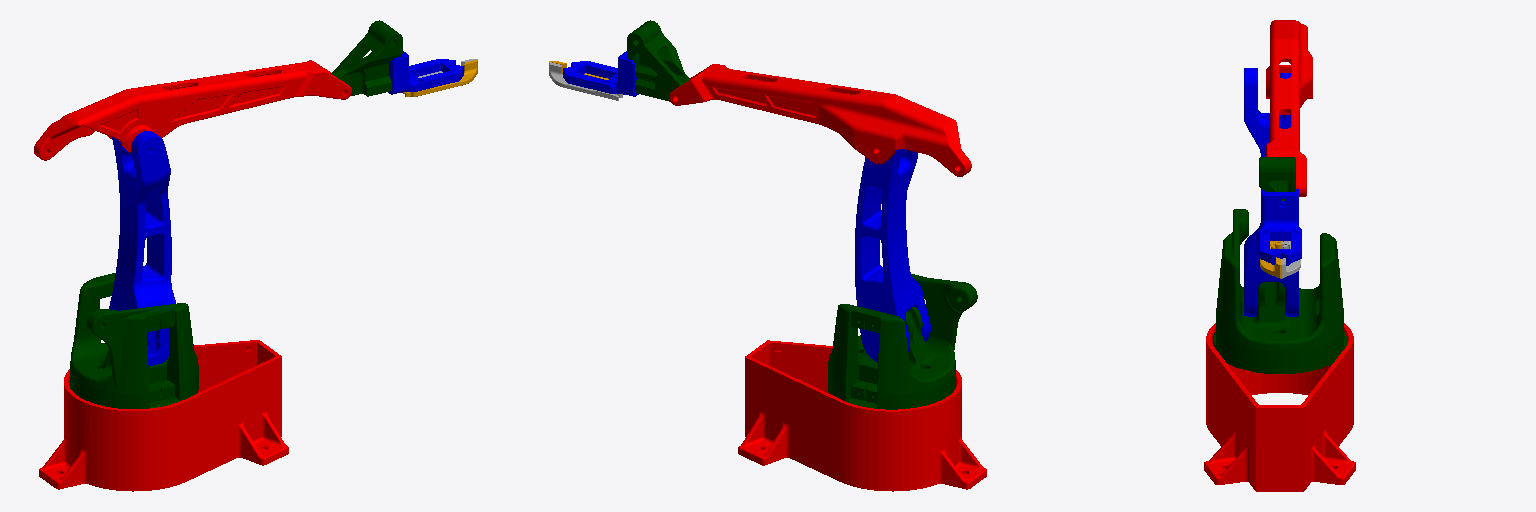
The robot description file, URDF, robot "eezybotarm":
<?xml version="1.0"?>

<robot name="eezybotarm">

<material name="red">
    <color rgba="1.0 0.0 0.0 1.0"/>
  </material>
  <material name="dark_green">
    <color rgba="0.0 0.275 0.0 1.0"/>
  </material>
  <material name="blue">
    <color rgba="0.0 0.0 1.0 1.0"/>
  </material>

<!-- BASE LINK -->
  <link
    name="base_link">
    <visual>
      <origin xyz="0 0 0" rpy="0 0 3.14159265"/>
      <geometry>
        <mesh filename="package://eezybotarm_description/meshes/012_base.stl" />
      </geometry>
      <material name="red"/>
    </visual>
    <collision>
      <origin xyz="0 0 0" rpy="0 0 3.14159265"/>
      <geometry>
        <mesh filename="package://eezybotarm_description/meshes/012_base.stl" />
      </geometry>
    </collision>
  </link>

<!-- HIP -->
  <joint name="waist_joint" type="revolute">
    <origin xyz="0 0 0.05" rpy="0 0 0" />
    <parent link="base_link" />
    <child link="turret_link" />
    <axis xyz="0 0 1" />
    <limit effort="1.5" velocity="1.57"
      lower="-1.2" upper="1.2"/>
  </joint>

<!--HIP-->
  <link
    name="turret_link">
    <visual>
      <origin xyz="0 0 0" rpy="0 0 -1.570796325" />
      <geometry>
        <mesh filename="package://eezybotarm_description/meshes/001_base.stl" />
      </geometry>
      <material name="dark_green"/>
    </visual>
    <collision>
      <origin xyz="0 0 0" rpy="0 0 -1.570796325" />
      <geometry>
        <mesh filename="package://eezybotarm_description/meshes/001_base.stl" />
      </geometry>
    </collision>
  </link>

<!-- SHOULDER -->
  <joint name="shoulder_joint" type="revolute">
    <origin xyz="0 -0.005 0.037" rpy="0 0 0" />
    <parent link="turret_link" />
    <child link="shoulder_link" />
    <axis xyz="0 1 0" />
    <limit effort="1.5" velocity="1.57"
      lower="-0.45" upper="0.80"/>
  </joint>

<!-- SHOULDER -->
  <link name="shoulder_link">
    <visual>
      <origin xyz="0 0 0" rpy="0 0 3.14159" />
      <geometry>
        <mesh filename="package://eezybotarm_description/meshes/002_mainarm.stl" />
      </geometry>
      <material name="blue"/>
    </visual>
    <collision>
      <origin xyz="0 0 0" rpy="0 0 3.14159" />
      <geometry>
        <mesh filename="package://eezybotarm_description/meshes/002_mainarm.stl" />
      </geometry>
    </collision>
  </link>

  <!-- VIRTUAL MIMIC JOINT 2-->
  <joint name="shoulder_mimic_joint" type="revolute">
    <origin xyz="0 -0.0011 0.135" rpy="0 0 0" />
    <parent link="shoulder_link"/>
    <child link="virtual_parallelogram_link"/>
    <axis xyz="0 1 0"/>
    <limit effort="30" velocity="1.0" lower="-3.14159" upper="3.14159" />
    <mimic joint="shoulder_joint" multiplier="-1" offset="0" />
  </joint>

  <link name="virtual_parallelogram_link" />

<!-- ELBOW -->
  <joint name="elbow_joint" type="revolute">
    <origin xyz="0 0.013 0" rpy="0 0 0" />
    <parent link="virtual_parallelogram_link" />
    <child link="forearm_link" />
    <axis xyz="0 1 0" />
    <limit effort="1.5" velocity="1.57" lower="-0.25" upper="1.0"/>
  </joint>

<!-- ELBOW -->
  <link name="forearm_link">
    <visual>
      <geometry>
        <mesh filename="package://eezybotarm_description/meshes/006_horarm.stl" />
      </geometry>
      <material name="red"/>
    </visual>
    <collision>
      <geometry>
        <mesh filename="package://eezybotarm_description/meshes/006_horarm.stl" />
      </geometry>
    </collision>
  </link>

  <!-- CLAW SUPPORT -->
  <joint name="wrist_joint" type="revolute">
    <origin xyz="0.1468 -0.005 0" rpy="0 0 0" />
    <parent link="forearm_link" />
    <child link="wrist_link" />
    <axis xyz="0 1 0" />
    <limit effort="1.5" velocity="1.57" lower="-3.14159" upper="3.14159"/>
    <mimic joint="elbow_joint" multiplier="-1" offset="0" />
  </joint>

  <!-- LAW SUPPORT -->
  <link name="wrist_link">
    <visual>
      <origin xyz="0.0393 0.0075 -0.0065" rpy="0 0 1.570796325" />
      <geometry>
        <mesh filename="package://eezybotarm_description/meshes/009_trialinkfront.stl" />
      </geometry>
      <material name="dark_green"/>
    </visual>
    <collision>
      <origin xyz="0.0393 0.0075 -0.0065" rpy="0 0 1.570796325" />
      <geometry>
        <mesh filename="package://eezybotarm_description/meshes/009_trialinkfront.stl" />
      </geometry>
    </collision>
  </link>

  <!-- CLAW BASE -->
  <joint name="claw_base_joint" type="fixed">
    <origin xyz="0.045 -0.0015 -0.009" rpy="-0 0 0" />
    <parent link="wrist_link" />
    <child link="claw_base" />
  </joint>

  <!-- CLAW BASE -->
  <link name="claw_base">
    <visual>
      <geometry>
        <mesh filename="package://eezybotarm_description/meshes/014_clawbase.stl" />
      </geometry>
      <material name="blue" />
    </visual>
    <collision>
      <geometry>
        <mesh filename="package://eezybotarm_description/meshes/014_clawbase.stl" />
      </geometry>
    </collision>
  </link>

  <!-- FINGERS -->
  <joint name="finger_left_joint" type="revolute">
    <origin xyz="0.0085 0.009 -0.004" rpy="0 0 0" />
    <parent link="claw_base"/>
    <child link="claw_l"/>
    <axis xyz="0 0 1" />
    <limit effort="1.5" lower="0" upper="0.65" velocity="1.3" />
  </joint>

  <joint name="finger_right_joint" type="revolute">
    <origin xyz="0.0085 -0.009 -0.004" rpy="0 0 0" />
    <parent link="claw_base"/>
    <child link="claw_r"/>
    <axis xyz="0 0 -1" />
    <limit effort="1.5" lower="0" upper="0.65" velocity="1.3" />
    <mimic joint="finger_left_joint" multiplier="1.0" offset="0" />
  </joint>

  <link name="claw_l">
    <visual>
      <origin xyz="0 0 0" rpy="-1.570796325 0 0" />
      <geometry>
        <mesh filename="package://eezybotarm_description/meshes/017_clawfingersx.stl" />
      </geometry>
    </visual>
    <collision>
      <origin xyz="0 0 0" rpy="-1.570796325 0 0" />
      <geometry>
        <mesh filename="package://eezybotarm_description/meshes/017_clawfingersx.stl" />
      </geometry>
    </collision>
  </link>

  <link name="claw_r">
    <visual>
      <origin xyz="0 0 0.0033" rpy="1.570796325 0 0" />
      <geometry>
        <mesh filename="package://eezybotarm_description/meshes/015_clawfingerdx.stl" />
      </geometry>
    </visual>
    <collision>
      <origin xyz="0 0 0.0033" rpy="1.570796325 0 0" />
      <geometry>
        <mesh filename="package://eezybotarm_description/meshes/015_clawfingerdx.stl" />
      </geometry>
    </collision>
  </link>

  <!-- End-Effector frame for MoveIt -->
  <joint name="ee_joint" type="fixed">
    <origin xyz="0.075 0 0" rpy="0 0 0" />
    <parent link="claw_base" />
    <child link="ee_link" />
  </joint>

  <link name="ee_link"/>

</robot>

--- What the picture shows (computed from the rendered views, not written in the file) ---
Views: 3 orthographic renders of the robot side by side, from view 1: azimuth 30°, elevation 25°; view 2: azimuth 150°, elevation 25°; view 3: azimuth 270°, elevation 25°.
Robot: eezybotarm — 10 links, 9 joints (7 revolute, 2 fixed); root link base_link; default pose: every joint at zero.
Visible links, largest first — view 1: base_link, turret_link, forearm_link, shoulder_link, wrist_link, claw_base, claw_r; view 2: base_link, forearm_link, turret_link, shoulder_link, wrist_link, claw_base, claw_l; view 3: base_link, turret_link, forearm_link, shoulder_link, claw_base, wrist_link.
Boxes of the visible links, left/top/right/bottom form: base_link: left=39, top=340, right=288, bottom=491; turret_link: left=70, top=273, right=198, bottom=408; forearm_link: left=34, top=60, right=351, bottom=160; shoulder_link: left=109, top=131, right=175, bottom=365; wrist_link: left=331, top=20, right=402, bottom=96; claw_base: left=388, top=51, right=463, bottom=94; claw_r: left=403, top=59, right=477, bottom=96; base_link: left=738, top=340, right=986, bottom=491; forearm_link: left=669, top=64, right=971, bottom=176; turret_link: left=828, top=274, right=977, bottom=409; shoulder_link: left=855, top=149, right=930, bottom=362; wrist_link: left=627, top=20, right=689, bottom=101; claw_base: left=563, top=51, right=638, bottom=96; claw_l: left=549, top=62, right=622, bottom=100; base_link: left=1204, top=323, right=1355, bottom=491; turret_link: left=1213, top=209, right=1346, bottom=373; forearm_link: left=1266, top=20, right=1312, bottom=196; shoulder_link: left=1244, top=68, right=1298, bottom=316; claw_base: left=1260, top=189, right=1301, bottom=263; wrist_link: left=1259, top=157, right=1295, bottom=200.
Bounding box of the posed robot: 0.3101 × 0.0906 × 0.257 m (x, y, z).
Meshes: 8 distinct files referenced, 8 mesh visuals loaded (8 binary STL).
